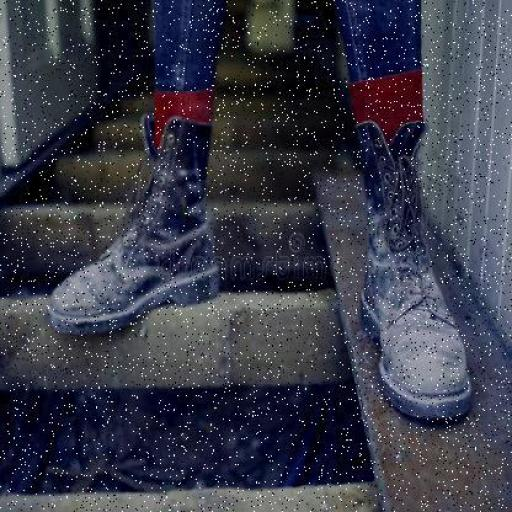safety_shoe: (354, 122, 472, 422), (52, 123, 226, 316)
